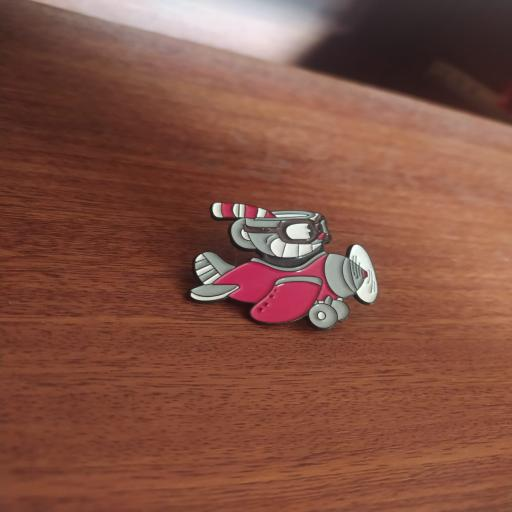Pin: (174, 189, 392, 336)
